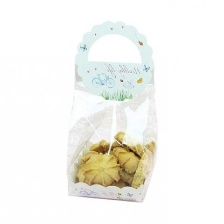snack: (56, 12, 164, 208)
